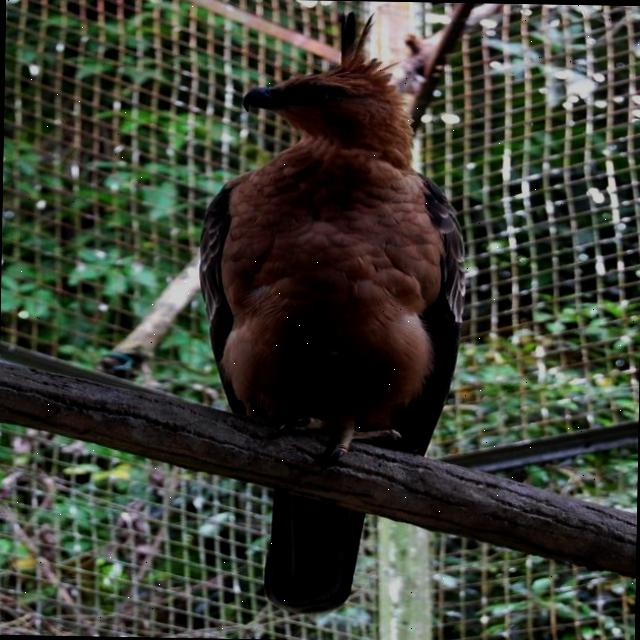Elang Jawa: (180, 0, 501, 640)
